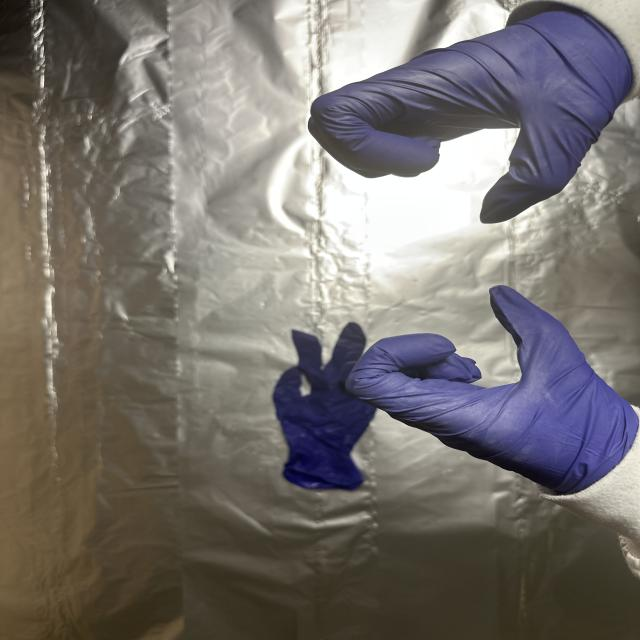gloves_contaminated: (308, 5, 632, 223), (347, 286, 638, 497)
